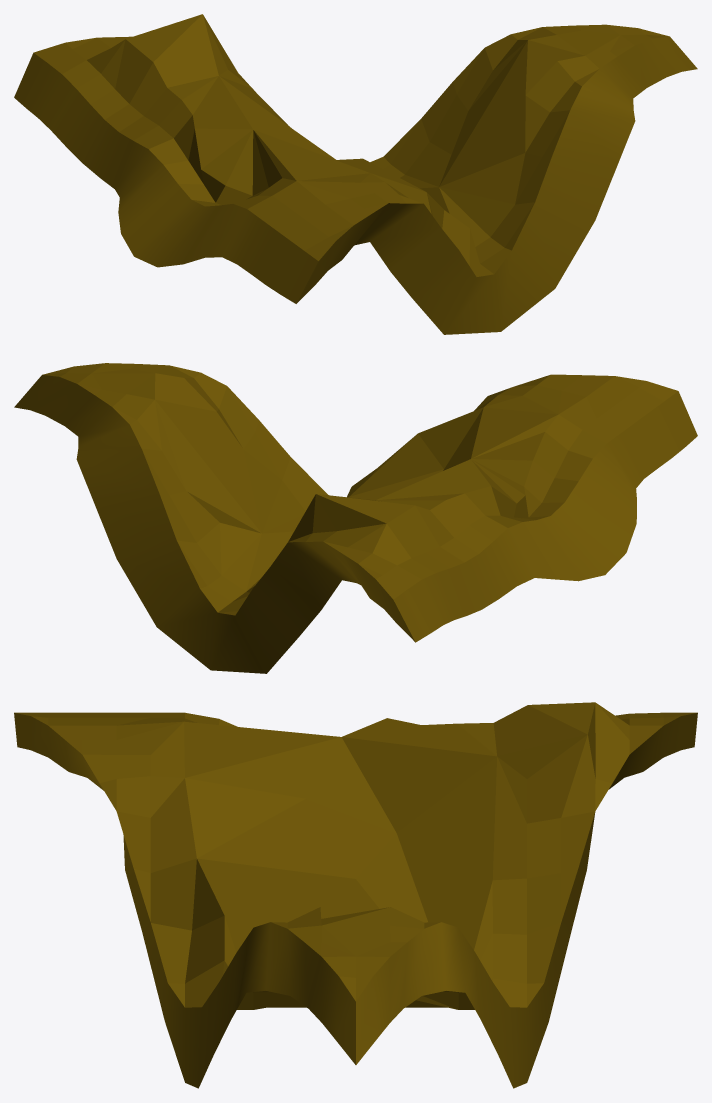
File: ground.fbx
The picture shows the model from 3 angles, top to bottom: view 1: azimuth 30°, elevation 25°; view 2: azimuth 150°, elevation 25°; view 3: azimuth 270°, elevation 25°; orthographic projection. The views are drawn at different scales.
Parts seen in each view (by area): view 1: sweetypie; view 2: sweetypie; view 3: sweetypie.
Boxes of the visible parts, x1,y1,x2,y2 form: sweetypie: (14, 14, 697, 334); sweetypie: (14, 363, 697, 673); sweetypie: (14, 702, 697, 1088).
Bounding box in the file's own units: 1235 × 464 × 1056.
